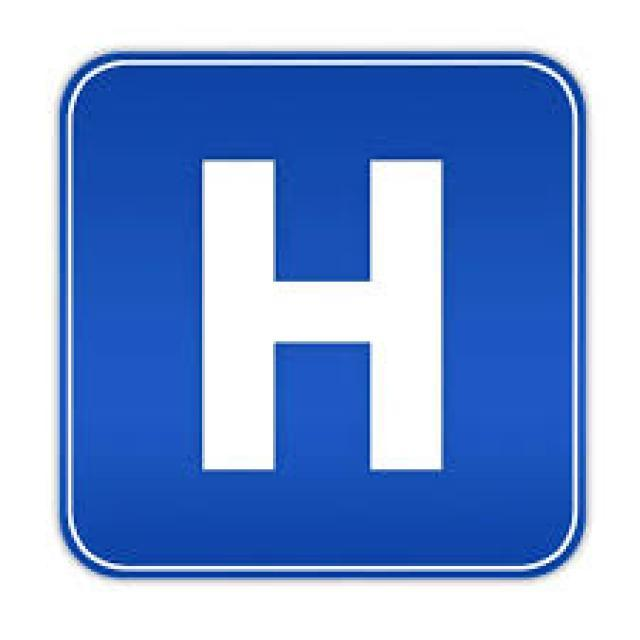hospital ahead: (114, 94, 527, 521)
